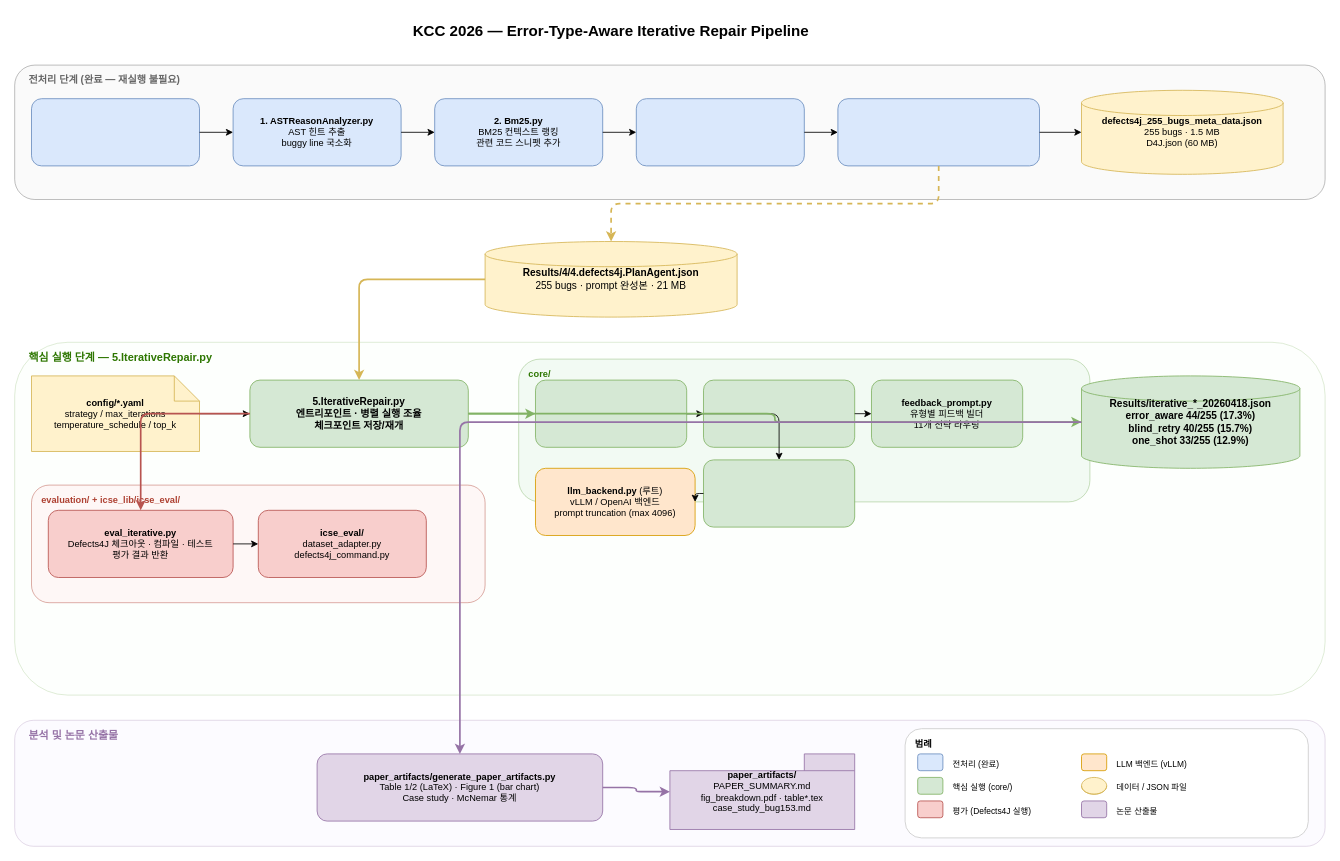
The diagram is 1340 pixels wide and 861 high, and some of its shapes have lost their labels. Each missing label, with the centre of its shape:
0. EnrichContext.py sibling signatures imports / class fields 추가: (115,132)
3. GenerateBugfixPrompt.py 프롬프트 템플릿 생성 컨텍스트 조합: (719,132)
4. PlanAgent.py 최종 prompt 필드 완성 → Results/4/4.defects4j.PlanAgent.json: (938,132)
error_classifier.py 오류 유형 분류 10개 error family: (779,413)
iterative_repair.py 반복 루프 · top-K 메모리 stagnation rotation: (611,413)
patch_generator.py LLM 호출 · 코드 블록 추출 후보 정규화: (779,493)
